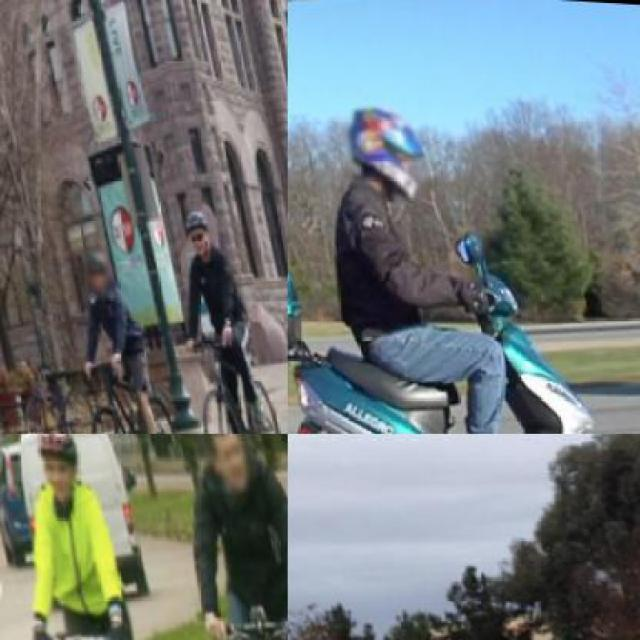With Helmet: (330, 80, 427, 206), (28, 434, 86, 509), (74, 238, 114, 297), (174, 193, 211, 250)
Without Helmet: (190, 434, 258, 495)
